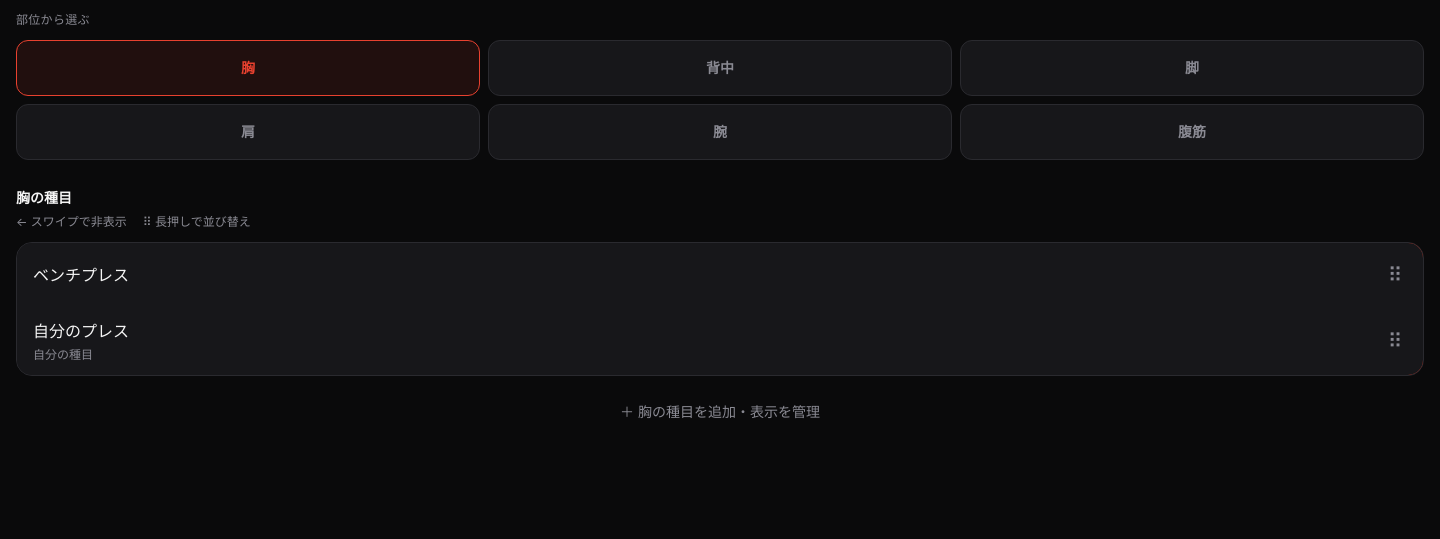
Test: ExercisePicker › keeps input and group after failure and retries
Click the button "＋ 胸の種目を追加・表示を管理" at (720, 412), box x1=16 y1=384 x2=1424 y2=440
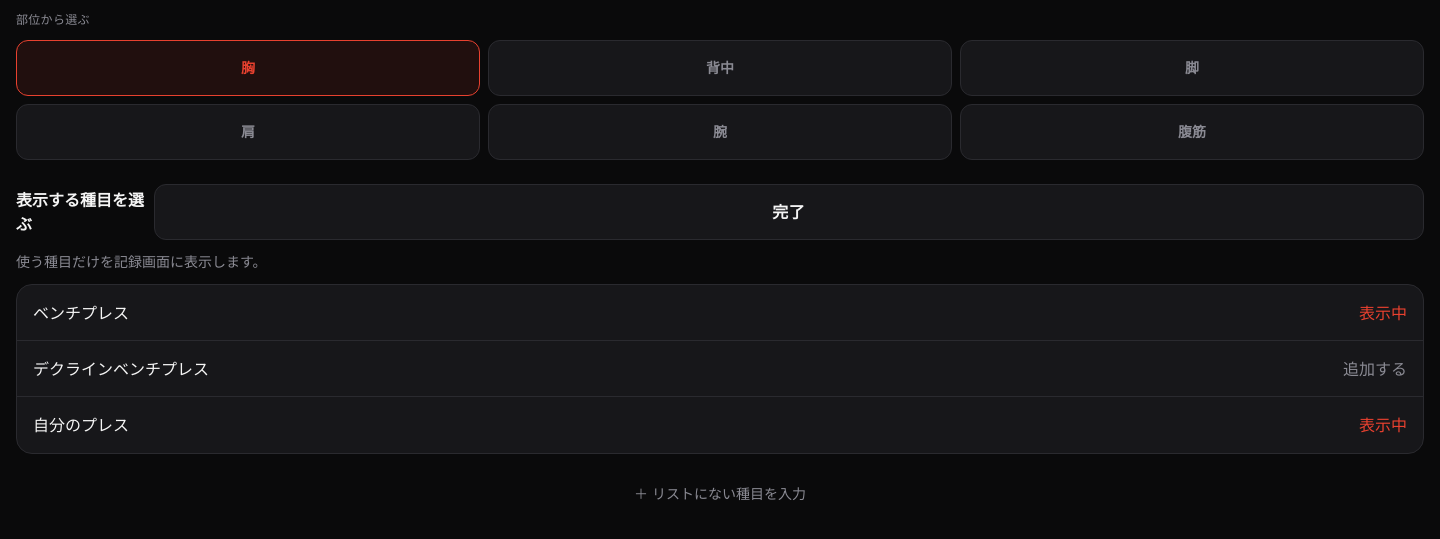
Click the button "＋ リストにない種目を入力" at (720, 494), box x1=16 y1=466 x2=1424 y2=522
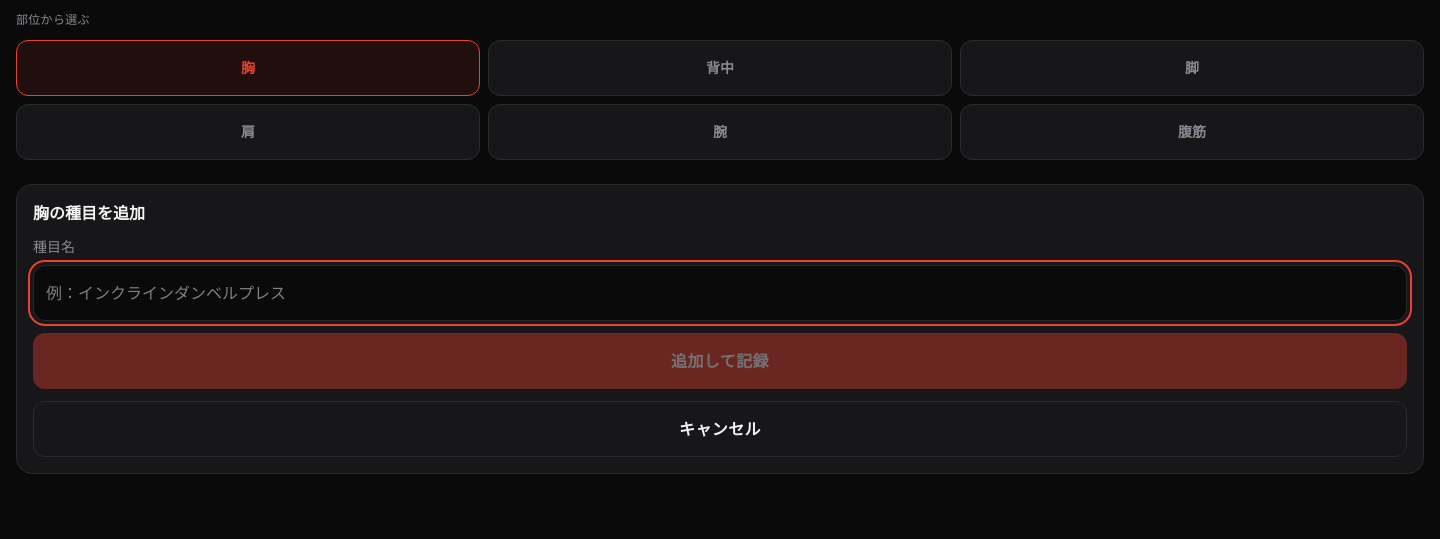
Type "新しいプレス" into the field labelled "種目名" at (720, 293), box x1=33 y1=265 x2=1407 y2=321
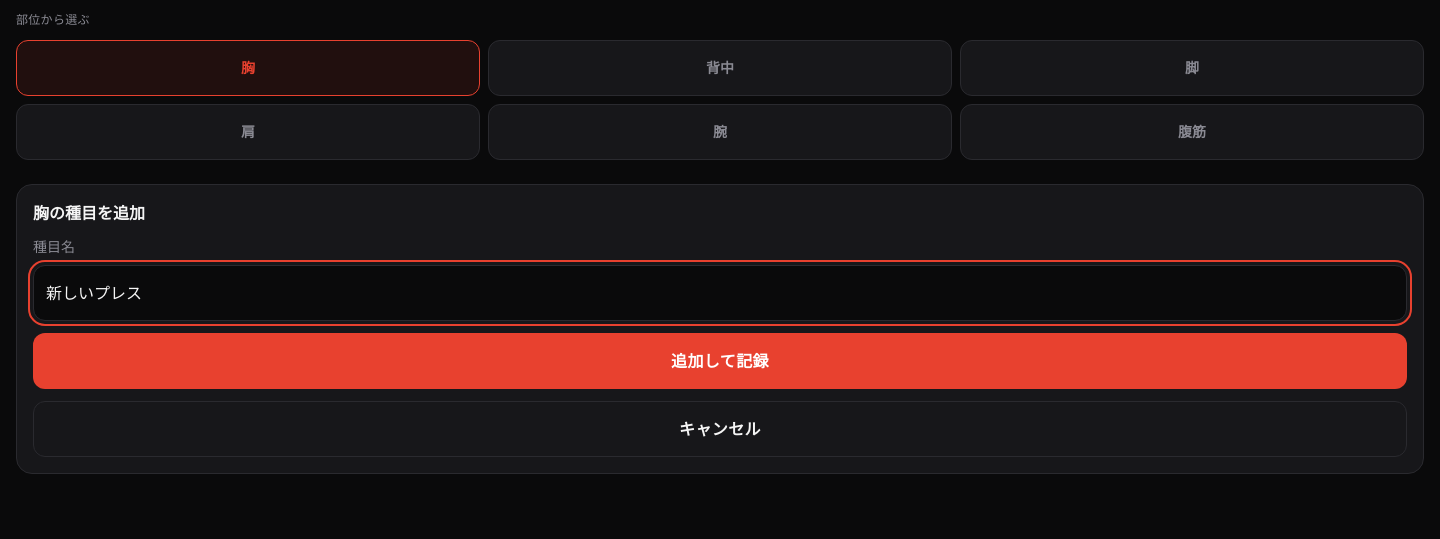
Click the button "追加して記録" at (720, 361), box x1=33 y1=333 x2=1407 y2=389
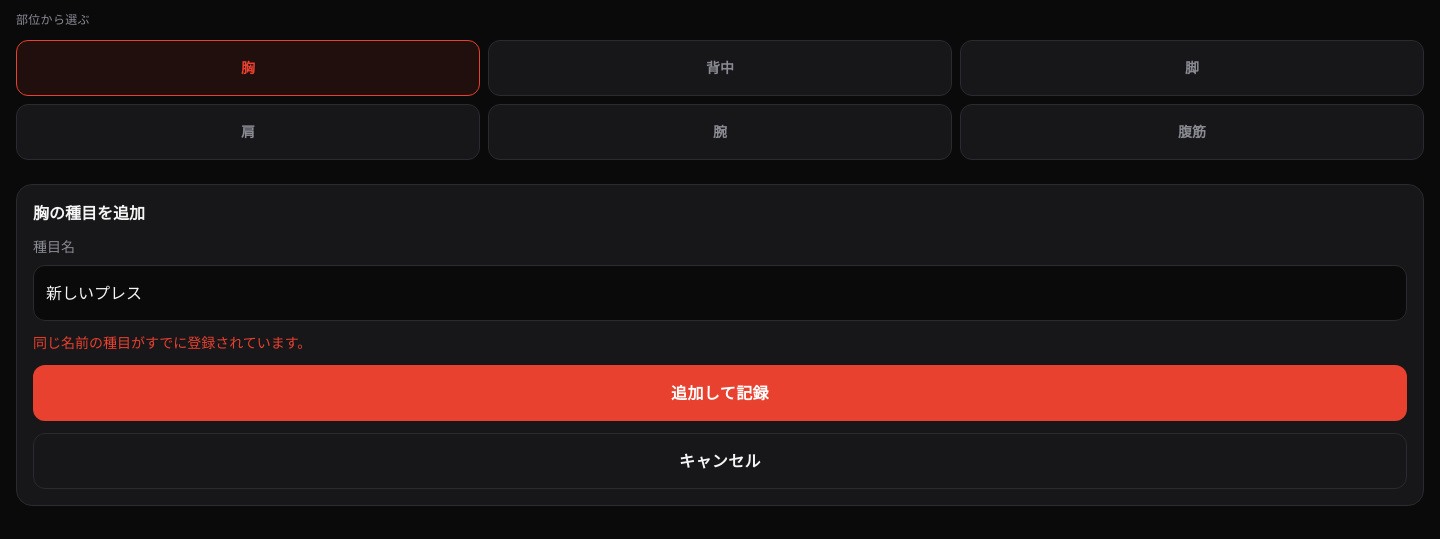
Result: the message shows "同じ名前" at x1=33 y1=334 x2=311 y2=351
Click the button "追加して記録" at (720, 393), box x1=33 y1=365 x2=1407 y2=421
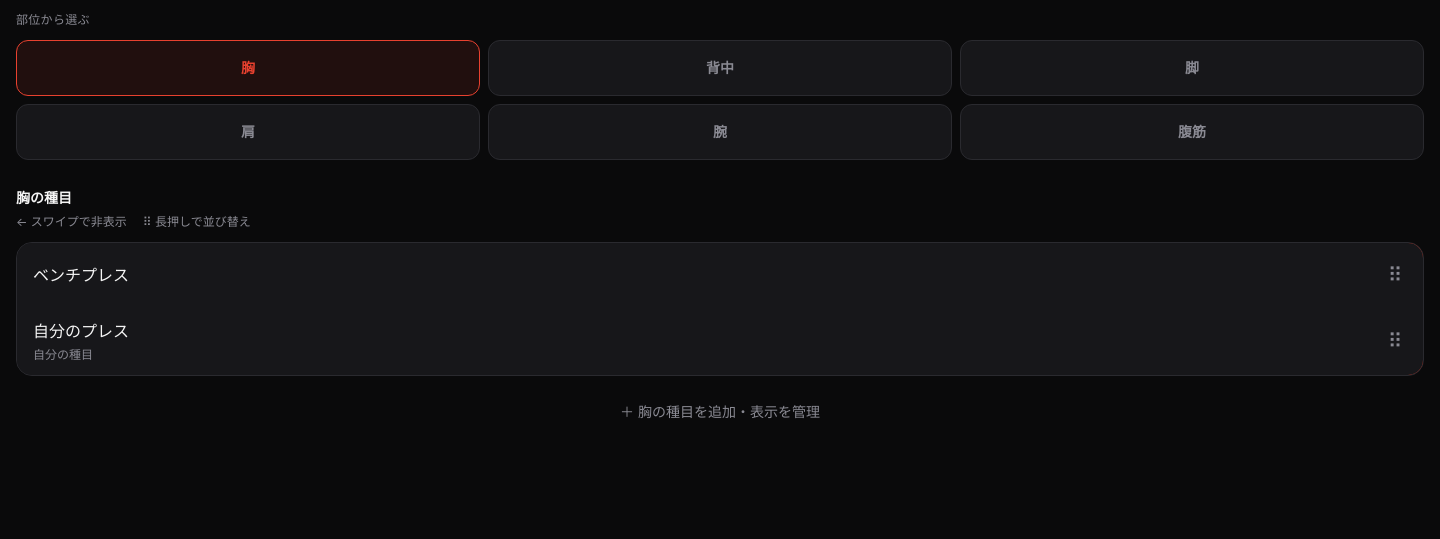
Result: the message "同じ名前の種目がすでに登録されています。" is gone
